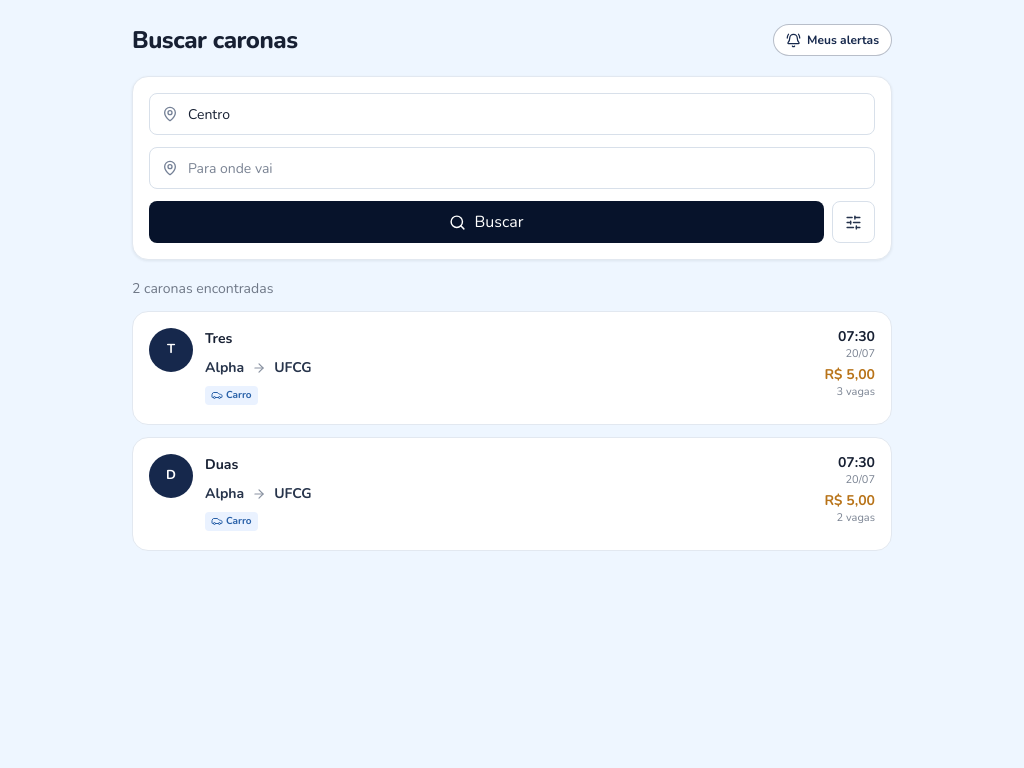
caronasFiltradas — filtros padrão e aliases › respeita o slider de vagas mínimas e usa singular quando sobra uma carona
Expected: the text "Tres" is shown, [205,328,232,349]
Click the button named "Filtros": (854, 222) [832,201,875,243]
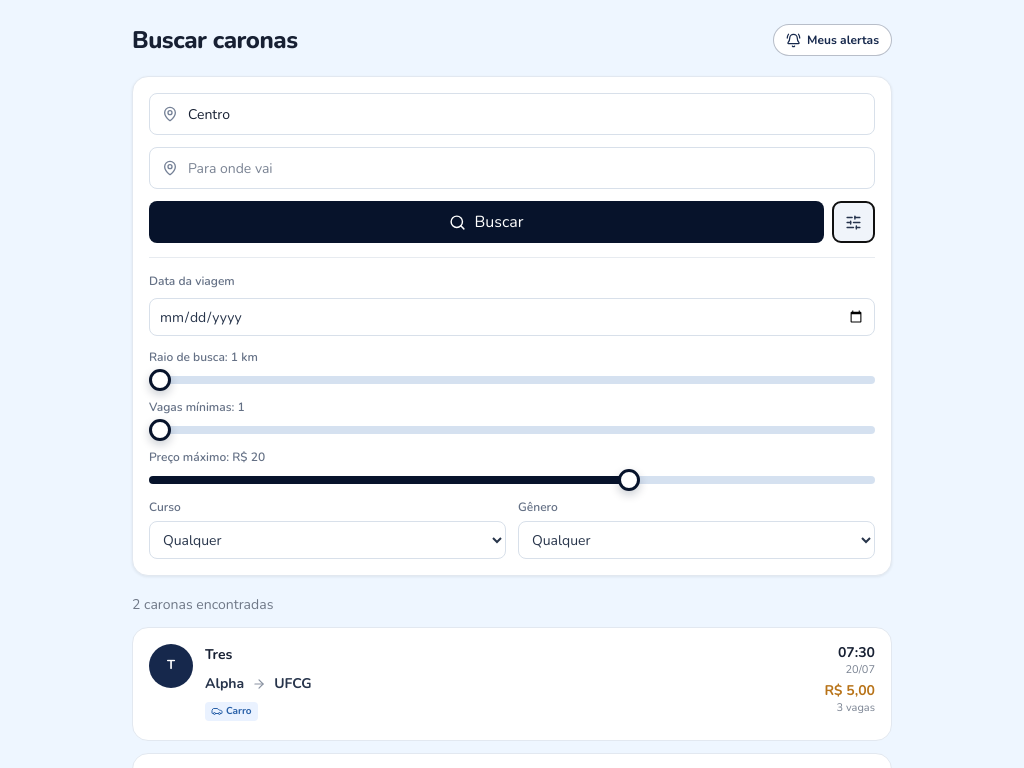
Set the slider below "Vagas mínimas: 1" to "3": (630, 430) [149,426,875,434]
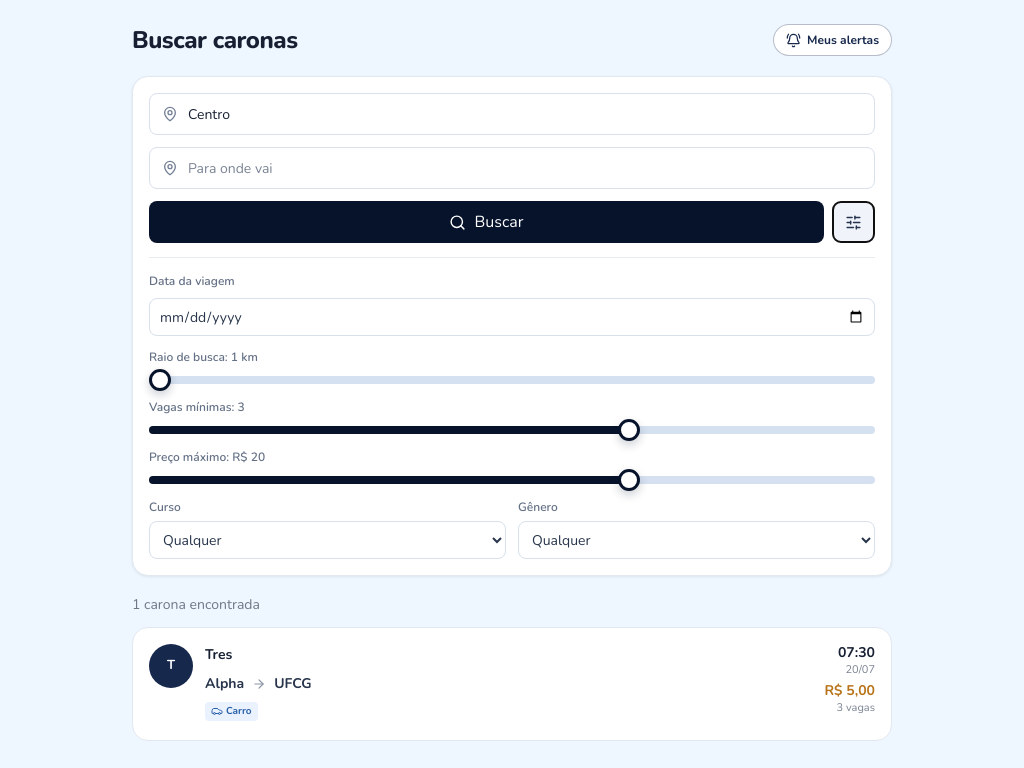
Expected: the text "Tres" is shown, [205,644,232,665]
Expected: the text "1 carona encontrada" is shown, [132,595,260,614]
